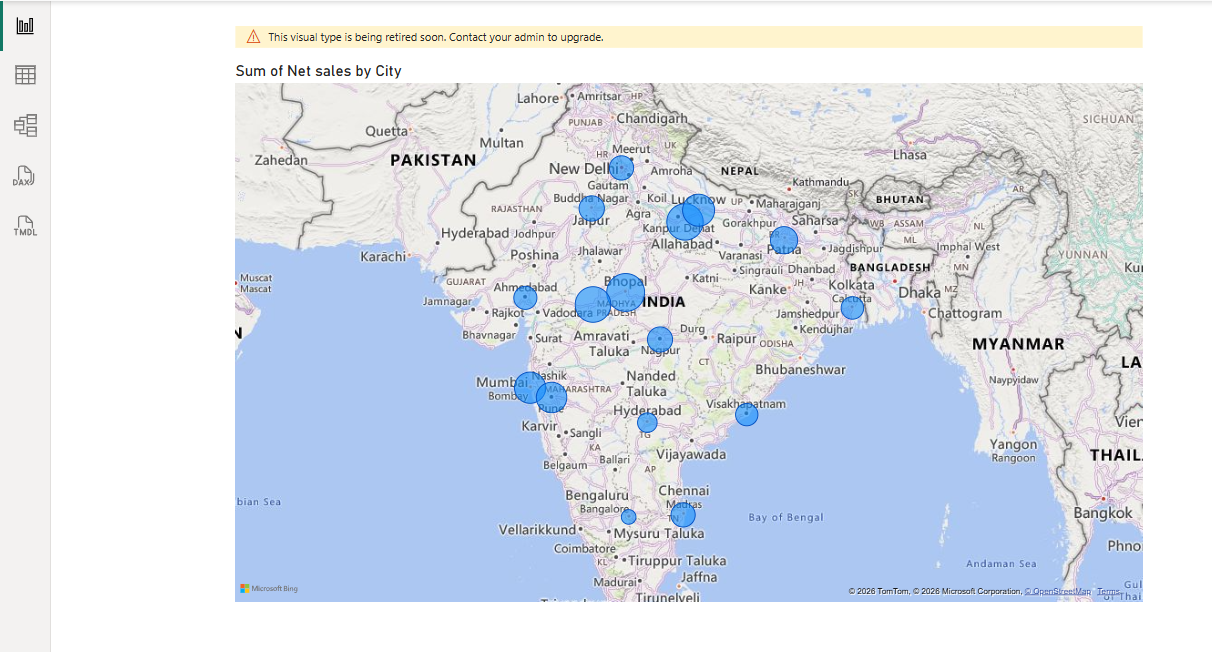

This screenshot's page, from the dashboard's own definition file:
{"tool":"powerbi","page":{"name":"sales in city","canvas":[1280,720],"ordinal":4},"visuals":[{"type":"map","fields":{"Category":["Dim Customers.City"],"Size":["Sum(Fact table.Net sales)"]},"box":[197.1,27.1,1005.7,637.1],"z":1}]}

Visuals, with their boxes on the page's 1280x720 design canvas (x1, y1, x2, y2). These are canvas units, not pixel positions in the 1212x652 screenshot, which may show the page scaled, cropped or inside an application window:
map - Dim Customers.City x Sum(Fact table.Net sales): 197/27/1203/664
